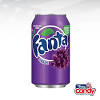fanta_can: (30, 13, 72, 88)
